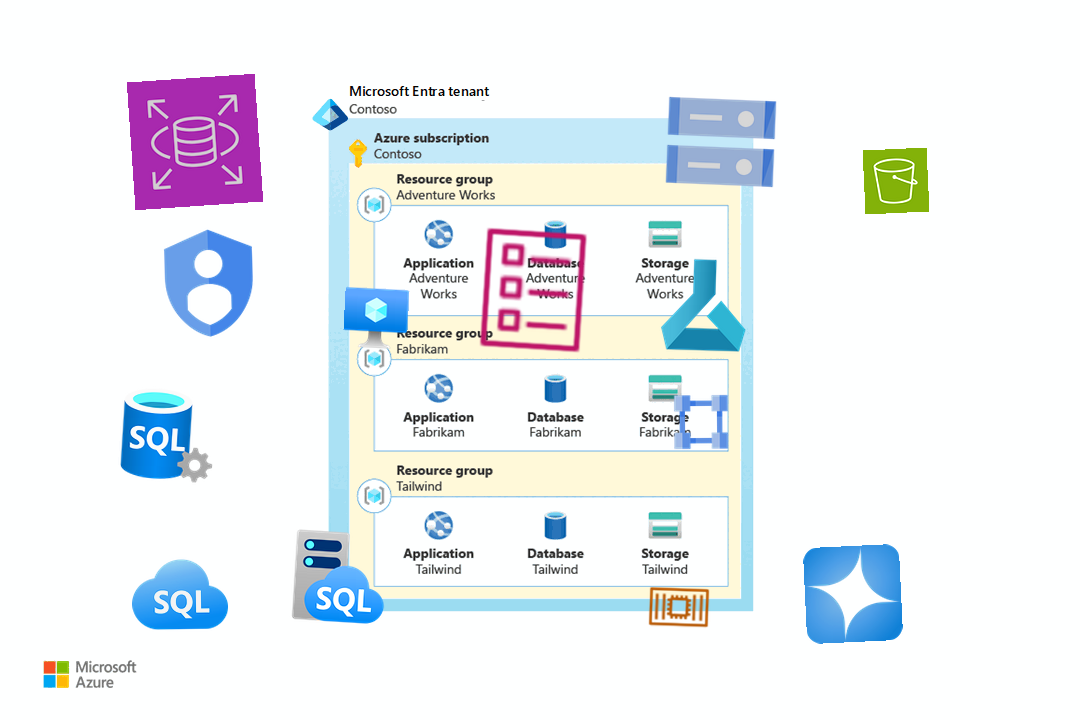aws_amazon_rds: (126, 73, 264, 211)
aws_amazon_simple_storage_service: (862, 147, 930, 215)
aws_cloudformation_template: (464, 222, 600, 358)
aws_elastic_container_service_container_2: (645, 573, 713, 641)
azure_machine_learning: (654, 255, 754, 355)
azure_openai: (802, 543, 904, 645)
azure_sql: (131, 547, 229, 645)
azure_sql_managed_instance: (289, 526, 391, 628)
azure_sql_server: (117, 384, 219, 486)
azure_virtual_machine: (342, 286, 410, 354)
gcp_cloud_storage: (654, 75, 788, 209)
gcp_identity_and_access_management: (143, 217, 275, 349)
gcp_virtual_private_cloud: (668, 389, 734, 455)
